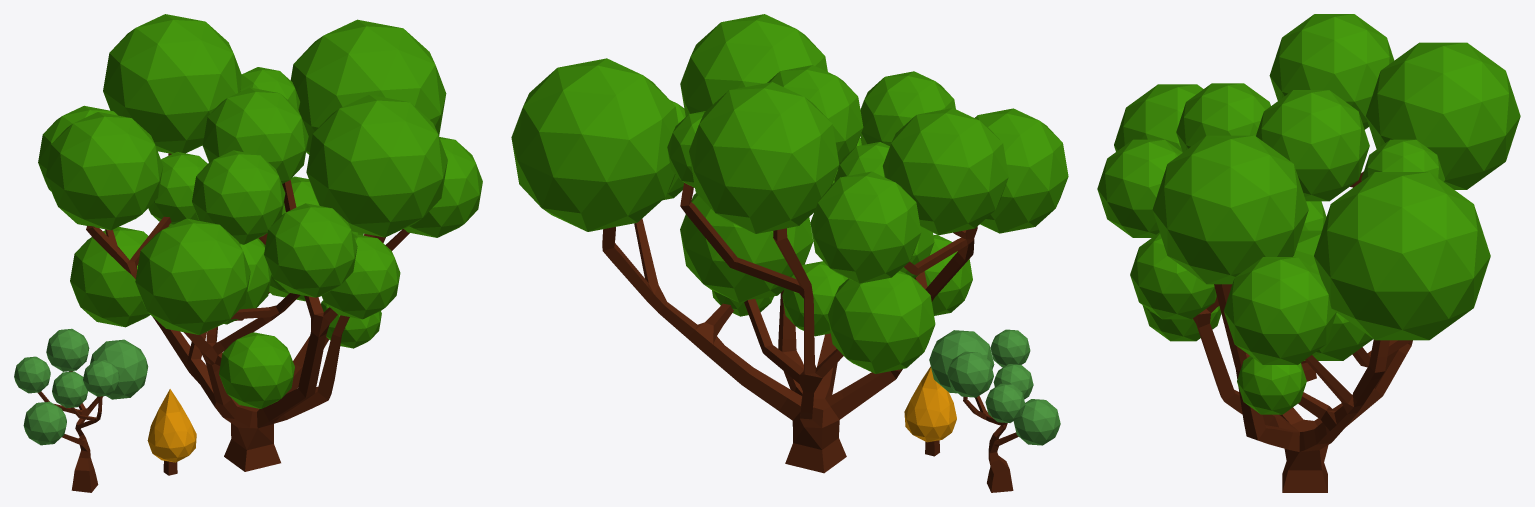
Rendered from asset.glb.
3 views of the same model, side by side, from view 1: azimuth 30°, elevation 25°; view 2: azimuth 150°, elevation 25°; view 3: azimuth 270°, elevation 25° (orthographic). The views are drawn at different scales.
Visible parts, largest first — view 1: tree crown (×2), trunk and branches (×2), treetop; view 2: tree crown (×2), trunk and branches (×2), treetop; view 3: tree crown, trunk and branches.
Boxes of the visible parts, bbox=[...] form: tree crown (×2): bbox=[14, 14, 482, 445]; trunk and branches (×2): bbox=[38, 153, 409, 492]; treetop: bbox=[147, 389, 196, 462]; tree crown (×2): bbox=[511, 14, 1068, 445]; trunk and branches (×2): bbox=[602, 183, 1018, 492]; treetop: bbox=[904, 366, 956, 442]; tree crown: bbox=[1097, 14, 1520, 414]; trunk and branches: bbox=[1193, 171, 1412, 492].
Bounding box in the file's own units: 20.64 × 17.36 × 15.52.
